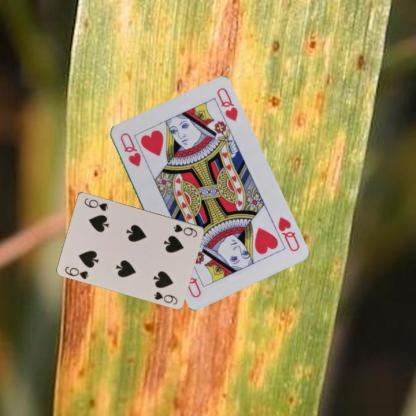6s: (171, 221, 199, 238), (63, 264, 90, 280)
Qh: (275, 214, 300, 253), (117, 130, 142, 168)
